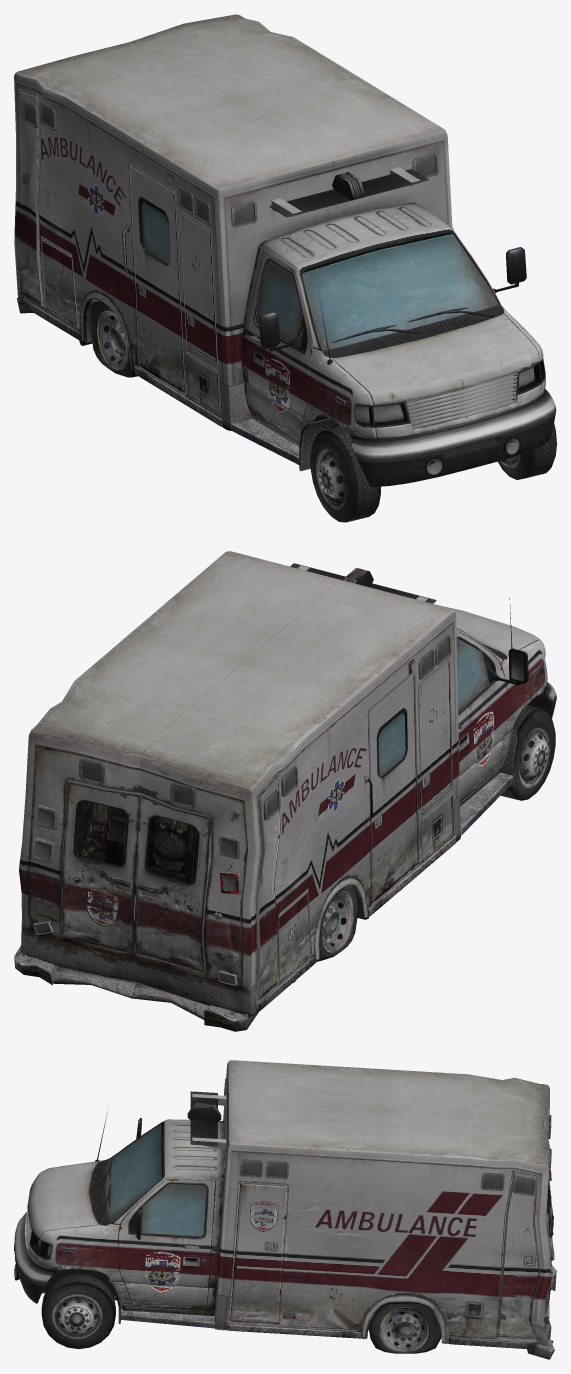
File: Ambulance.obj
3 views of the same model, one above another, from view 1: azimuth 30°, elevation 25°; view 2: azimuth 150°, elevation 25°; view 3: azimuth 270°, elevation 25° (orthographic). The views are drawn at different scales.
Parts seen in each view (by area): view 1: 0, 3, 5, 7, 4; view 2: 0, 3, 6, 7, 4, 5; view 3: 0, 3, 7, 5, 4.
Boxes of the visible parts, x1,y1,x2,y2 form: 0: (15,14,556,486); 3: (14,73,544,468); 5: (142,202,498,350); 7: (90,301,556,522); 4: (41,137,290,413); 0: (19,551,556,1016); 3: (14,610,549,1031); 6: (76,801,197,882); 7: (319,705,555,961); 4: (86,711,494,926); 5: (378,638,489,776); 0: (14,1060,554,1349); 3: (14,1062,556,1359); 7: (41,1273,441,1353); 5: (106,1123,206,1236); 4: (144,1201,476,1292).
Size of the model in its own units: 2.61 by 2.64 by 5.92.
6 materials, 6 textured.
